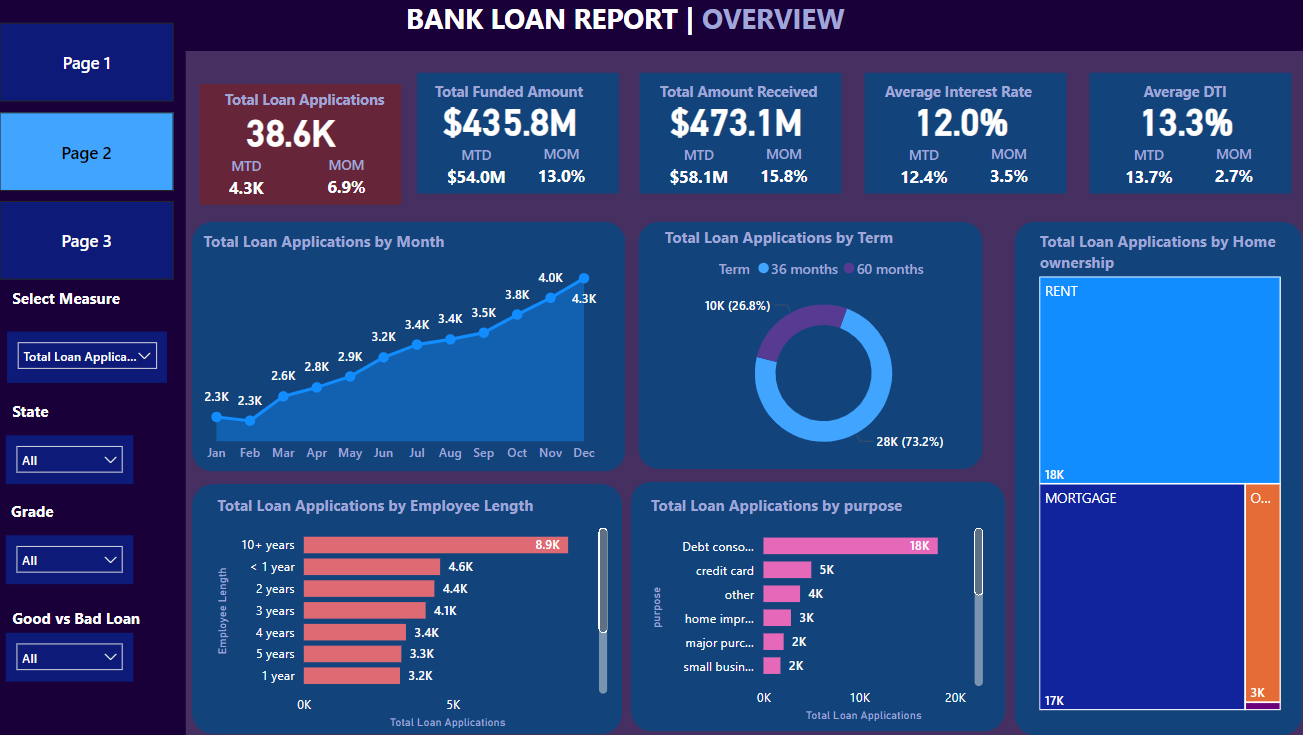

What the dashboard file says about the page in this screenshot:
{"tool":"powerbi","page":{"name":"Page 2","canvas":[1280,720],"ordinal":1},"visuals":[{"type":"shape","box":[0,54.3,191.8,666],"z":0},{"type":"shape","box":[628.6,219.6,332.6,238.9],"z":0,"group":"g6"},{"type":"shape","box":[991.7,219.6,277.9,495.8],"z":0,"group":"g9"},{"type":"shape","box":[0,0,1280.3,55],"z":1000},{"type":"donutChart","fields":{"Y":["bank loan data.Total Loan Applications"],"Category":["bank loan data.term"]},"box":[649.1,224.6,316.9,233.6],"z":1000,"group":"g6"},{"type":"textbox","box":[392.5,0,448.7,54.9],"z":2000},{"type":"shape","box":[415.5,76,194.9,116.6],"z":3000,"group":"g2"},{"type":"shape","box":[629.1,76,194.9,116.6],"z":3000,"group":"g3"},{"type":"shape","box":[846.2,76,194.9,116.6],"z":3000,"group":"g4"},{"type":"shape","box":[1063.4,76,194.9,116.6],"z":3000,"group":"g5"},{"type":"group","id":"g1","title":"Group 1","box":[187,86.9,212.3,117],"z":3000},{"type":"shape","box":[205.3,86.9,194.9,116.6],"z":3000,"group":"g1"},{"type":"shape","box":[197.9,219.6,418.2,241.3],"z":3000,"group":"g7"},{"type":"group","id":"g2","title":"Group 1","box":[400.9,76,209.4,116.6],"z":4000},{"type":"card","fields":{"Values":["bank loan data.Total Amount Received"]},"box":[618.7,90,208.7,60.3],"z":4000,"group":"g3"},{"type":"card","fields":{"Values":["bank loan data.Avg Interest Rate"]},"box":[835.8,90,208.7,60.3],"z":4000,"group":"g4"},{"type":"card","fields":{"Values":["bank loan data.Average DTI"]},"box":[1053,90,208.7,60.3],"z":4000,"group":"g5"},{"type":"card","fields":{"Values":["bank loan data.Total Funded Amount"]},"box":[400.9,96.5,208.7,48.3],"z":4000,"group":"g2"},{"type":"card","fields":{"Values":["bank loan data.Total Loan Applications"]},"box":[187,107.2,212.3,48.3],"z":4000,"group":"g1"},{"type":"shape","box":[621.3,470.5,361.3,241.3],"z":4000,"group":"g10"},{"type":"shape","box":[197.9,472.9,415.3,241.3],"z":4000,"group":"g8"},{"type":"group","id":"g3","title":"Group 1","box":[618.7,76,208.7,117],"z":5000},{"type":"textbox","box":[644.5,79.2,174.9,33.8],"z":5000,"group":"g3"},{"type":"textbox","box":[861.6,79.2,174.9,33.8],"z":5000,"group":"g4"},{"type":"textbox","box":[1110.9,79.4,113.4,33.8],"z":5000,"group":"g5"},{"type":"textbox","box":[427.5,79.6,174.9,36.2],"z":5000,"group":"g2"},{"type":"textbox","box":[224.9,87.2,174.9,36.2],"z":5000,"group":"g1"},{"type":"group","id":"g4","title":"Group 1","box":[835.8,76,208.7,117],"z":6000},{"type":"card","title":"MTD","fields":{"Values":["bank loan data.MTD Funded Amount"]},"box":[437.4,145.5,71.2,47.1],"z":6000,"group":"g2"},{"type":"card","title":"MTD","fields":{"Values":["bank loan data.MTD Amount Received"]},"box":[651.1,145.5,71.2,47.1],"z":6000,"group":"g3"},{"type":"card","title":"MTD","fields":{"Values":["bank loan data.MTD Average Interest Rate"]},"box":[868.2,145.5,71.2,47.1],"z":6000,"group":"g4"},{"type":"card","title":"MTD","fields":{"Values":["bank loan data.MTD Average DTI"]},"box":[1085.4,145.5,71.2,47.1],"z":6000,"group":"g5"},{"type":"card","title":"MTD","fields":{"Values":["bank loan data.MTD Loan Applications"]},"box":[224.9,157.2,51.9,47.1],"z":6000,"group":"g1"},{"type":"group","id":"g5","title":"Group 1","box":[1053,76,208.7,116.6],"z":7000},{"type":"card","title":"MOM","fields":{"Values":["bank loan data.MOM Funded Amount"]},"box":[525.5,144.3,59.1,48.3],"z":7000,"group":"g2"},{"type":"card","title":"MOM","fields":{"Values":["bank loan data.MOM Amount Received"]},"box":[739.2,144.3,59.1,48.3],"z":7000,"group":"g3"},{"type":"card","title":"MOM","fields":{"Values":["bank loan data.MOM Average Interest Rate"]},"box":[956.3,144.3,59.1,48.3],"z":7000,"group":"g4"},{"type":"card","title":"MOM","fields":{"Values":["bank loan data.MOM Average DTI"]},"box":[1173.5,144.3,59.1,48.3],"z":7000,"group":"g5"},{"type":"card","title":"MOM","fields":{"Values":["bank loan data.MOM Loan Applications"]},"box":[321.4,156,51.9,48.3],"z":7000,"group":"g1"},{"type":"slicer","fields":{"Values":["bank loan data.address_state"]},"box":[18.1,425.9,123.1,47.1],"z":8000},{"type":"textbox","box":[19.3,387.3,121.9,37.4],"z":9000},{"type":"slicer","fields":{"Values":["bank loan data.grade"]},"box":[18.1,522.4,123.1,47.1],"z":10000},{"type":"textbox","box":[18.1,483.8,121.9,37.4],"z":11000},{"type":"slicer","fields":{"Values":["bank loan data.Good vs Bad Loan"]},"box":[18.1,616.5,123.1,47.1],"z":12000},{"type":"textbox","box":[19.3,587.5,154.4,37.4],"z":13000},{"type":"slicer","fields":{"Values":["Select Measure 2.Select Measure"]},"box":[19.3,325.7,154.4,49.5],"z":14000},{"type":"areaChart","fields":{"Y":["bank loan data.Total Loan Applications"],"Category":["Date Table.Month"]},"box":[204,228,390.4,232.8],"z":15000,"group":"g7"},{"type":"textbox","box":[19.3,278.7,132.7,37.4],"z":15000},{"type":"group","id":"g6","title":"Group 2","box":[628.6,219.6,337.8,238.9],"z":16000},{"type":"group","id":"g7","title":"Group 3","box":[197.9,219.6,418.6,241.3],"z":17000},{"type":"group","id":"g8","title":"Group 4","box":[197.9,472.9,415.3,241.3],"z":18000},{"type":"group","id":"g9","title":"Group 2","box":[991.7,219.6,278.7,495.8],"z":19000},{"type":"barChart","fields":{"Y":["bank loan data.Total Loan Applications"],"Category":["bank loan data.emp_length"]},"box":[216.9,482.6,386.7,231.6],"z":19000,"group":"g8"},{"type":"barChart","fields":{"Y":["bank loan data.Total Loan Applications"],"Category":["bank loan data.purpose"]},"box":[635.3,482.6,330.6,224.4],"z":19002,"group":"g10"},{"type":"group","id":"g10","title":"Group 5","box":[621.3,470.5,361.7,241.3],"z":20000},{"type":"treemap","title":"Total Loan Applications by Home ownership","fields":{"Values":["bank loan data.Total Loan Applications"],"Group":["bank loan data.home_ownership"]},"box":[1011,228,242.5,468.1],"z":21000},{"type":"pageNavigator","box":[12.1,27.7,168.9,249.7],"z":22000}]}

Visuals, with their boxes in screenshot pixels (x1, y1, x2, y2), scaled from the page's 1280x720 canvas onto the 1303x735 screenshot:
shape: [x1=0, y1=55, x2=195, y2=734]
shape: [x1=640, y1=224, x2=978, y2=468]
shape: [x1=1010, y1=224, x2=1292, y2=730]
shape: [x1=0, y1=0, x2=1302, y2=56]
donutChart - bank loan data.Total Loan Applications x bank loan data.term: [x1=661, y1=229, x2=983, y2=468]
textbox: [x1=400, y1=0, x2=856, y2=56]
shape: [x1=423, y1=78, x2=621, y2=197]
shape: [x1=640, y1=78, x2=839, y2=197]
shape: [x1=861, y1=78, x2=1060, y2=197]
shape: [x1=1083, y1=78, x2=1281, y2=197]
"Group 1" group: [x1=190, y1=89, x2=406, y2=208]
shape: [x1=209, y1=89, x2=407, y2=208]
shape: [x1=201, y1=224, x2=627, y2=471]
"Group 1" group: [x1=408, y1=78, x2=621, y2=197]
card - bank loan data.Total Amount Received: [x1=630, y1=92, x2=842, y2=153]
card - bank loan data.Avg Interest Rate: [x1=851, y1=92, x2=1063, y2=153]
card - bank loan data.Average DTI: [x1=1072, y1=92, x2=1284, y2=153]
card - bank loan data.Total Funded Amount: [x1=408, y1=99, x2=621, y2=148]
card - bank loan data.Total Loan Applications: [x1=190, y1=109, x2=406, y2=159]
shape: [x1=632, y1=480, x2=1000, y2=727]
shape: [x1=201, y1=483, x2=624, y2=729]
"Group 1" group: [x1=630, y1=78, x2=842, y2=197]
textbox: [x1=656, y1=81, x2=834, y2=115]
textbox: [x1=877, y1=81, x2=1055, y2=115]
textbox: [x1=1131, y1=81, x2=1246, y2=116]
textbox: [x1=435, y1=81, x2=613, y2=118]
textbox: [x1=229, y1=89, x2=407, y2=126]
"Group 1" group: [x1=851, y1=78, x2=1063, y2=197]
"MTD" card: [x1=445, y1=149, x2=518, y2=197]
"MTD" card: [x1=663, y1=149, x2=735, y2=197]
"MTD" card: [x1=884, y1=149, x2=956, y2=197]
"MTD" card: [x1=1105, y1=149, x2=1177, y2=197]
"MTD" card: [x1=229, y1=160, x2=282, y2=209]
"Group 1" group: [x1=1072, y1=78, x2=1284, y2=197]
"MOM" card: [x1=535, y1=147, x2=595, y2=197]
"MOM" card: [x1=752, y1=147, x2=813, y2=197]
"MOM" card: [x1=973, y1=147, x2=1034, y2=197]
"MOM" card: [x1=1195, y1=147, x2=1255, y2=197]
"MOM" card: [x1=327, y1=159, x2=380, y2=209]
slicer - bank loan data.address_state: [x1=18, y1=435, x2=144, y2=483]
textbox: [x1=20, y1=395, x2=144, y2=434]
slicer - bank loan data.grade: [x1=18, y1=533, x2=144, y2=581]
textbox: [x1=18, y1=494, x2=143, y2=532]
slicer - bank loan data.Good vs Bad Loan: [x1=18, y1=629, x2=144, y2=677]
textbox: [x1=20, y1=600, x2=177, y2=638]
slicer - Select Measure 2.Select Measure: [x1=20, y1=332, x2=177, y2=383]
areaChart - bank loan data.Total Loan Applications x Date Table.Month: [x1=208, y1=233, x2=605, y2=470]
textbox: [x1=20, y1=285, x2=155, y2=323]
"Group 2" group: [x1=640, y1=224, x2=984, y2=468]
"Group 3" group: [x1=201, y1=224, x2=628, y2=471]
"Group 4" group: [x1=201, y1=483, x2=624, y2=729]
"Group 2" group: [x1=1010, y1=224, x2=1293, y2=730]
barChart - bank loan data.Total Loan Applications x bank loan data.emp_length: [x1=221, y1=493, x2=614, y2=729]
barChart - bank loan data.Total Loan Applications x bank loan data.purpose: [x1=647, y1=493, x2=983, y2=722]
"Group 5" group: [x1=632, y1=480, x2=1001, y2=727]
"Total Loan Applications by Home ownership" treemap: [x1=1029, y1=233, x2=1276, y2=711]
pageNavigator: [x1=12, y1=28, x2=184, y2=283]
